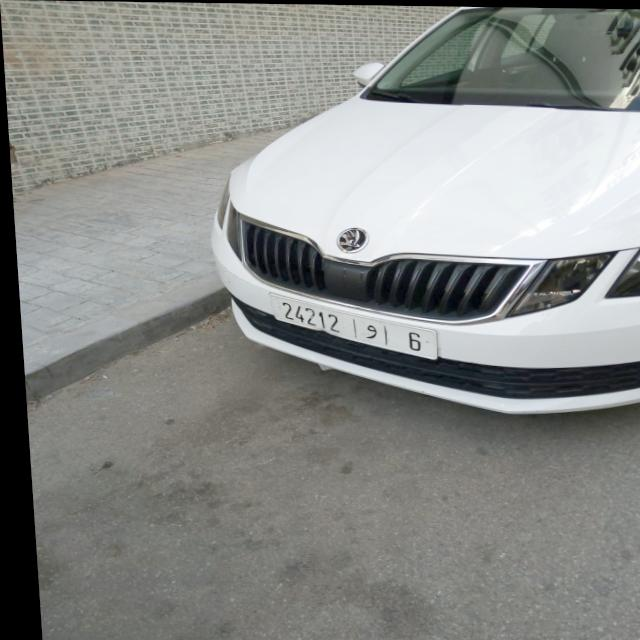License-Plate: (267, 295, 433, 358)
